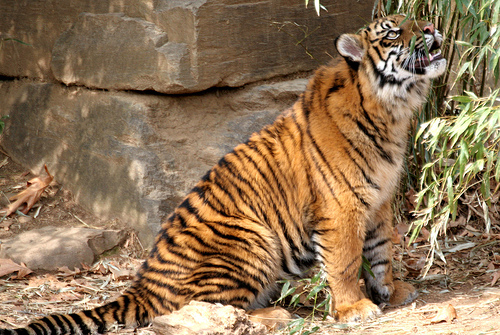Tigre: (137, 18, 456, 316)
